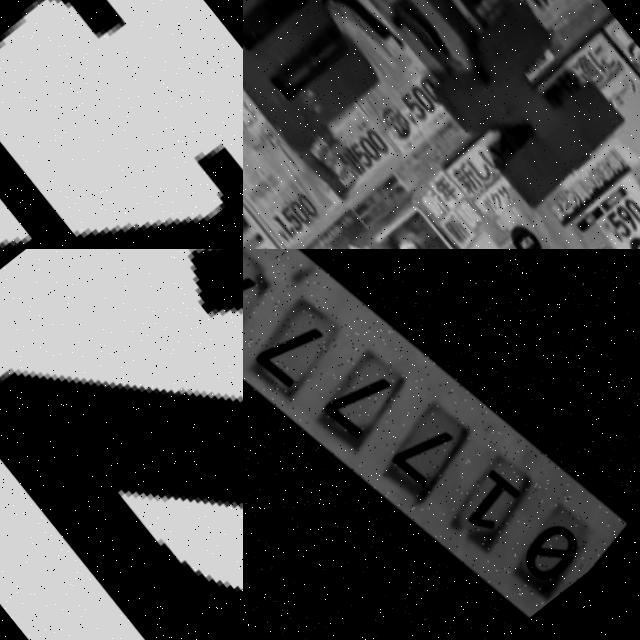0: (497, 488, 613, 606)
1: (437, 443, 550, 557)
7: (301, 334, 425, 459), (243, 285, 355, 409), (371, 393, 484, 506), (243, 249, 290, 359)
A: (0, 0, 243, 249)
K: (426, 0, 626, 198)
M: (243, 0, 386, 152)
Z: (0, 249, 243, 640)
